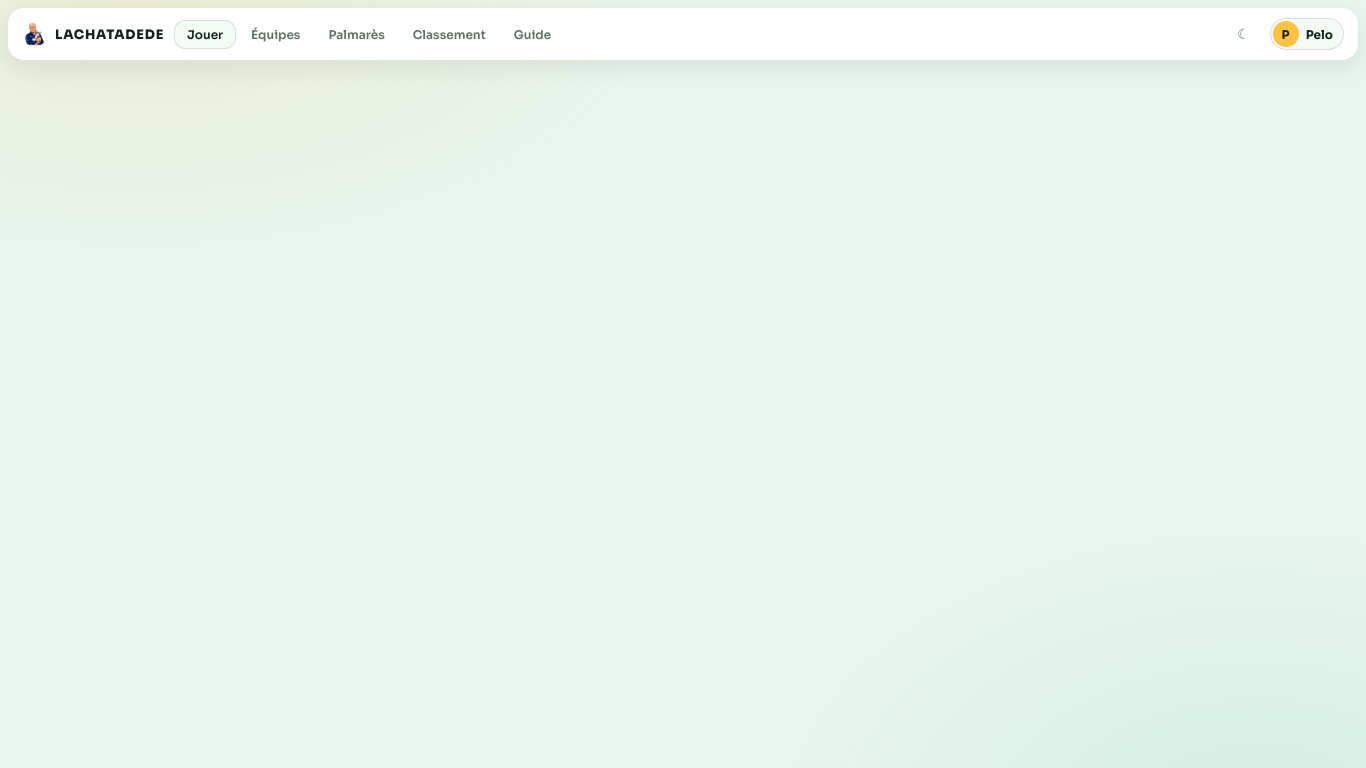
Scenario: Appbar Component › should close the menu on Escape
Click the button with test id "user-menu" at (1307, 34), box [1270, 18, 1344, 50]
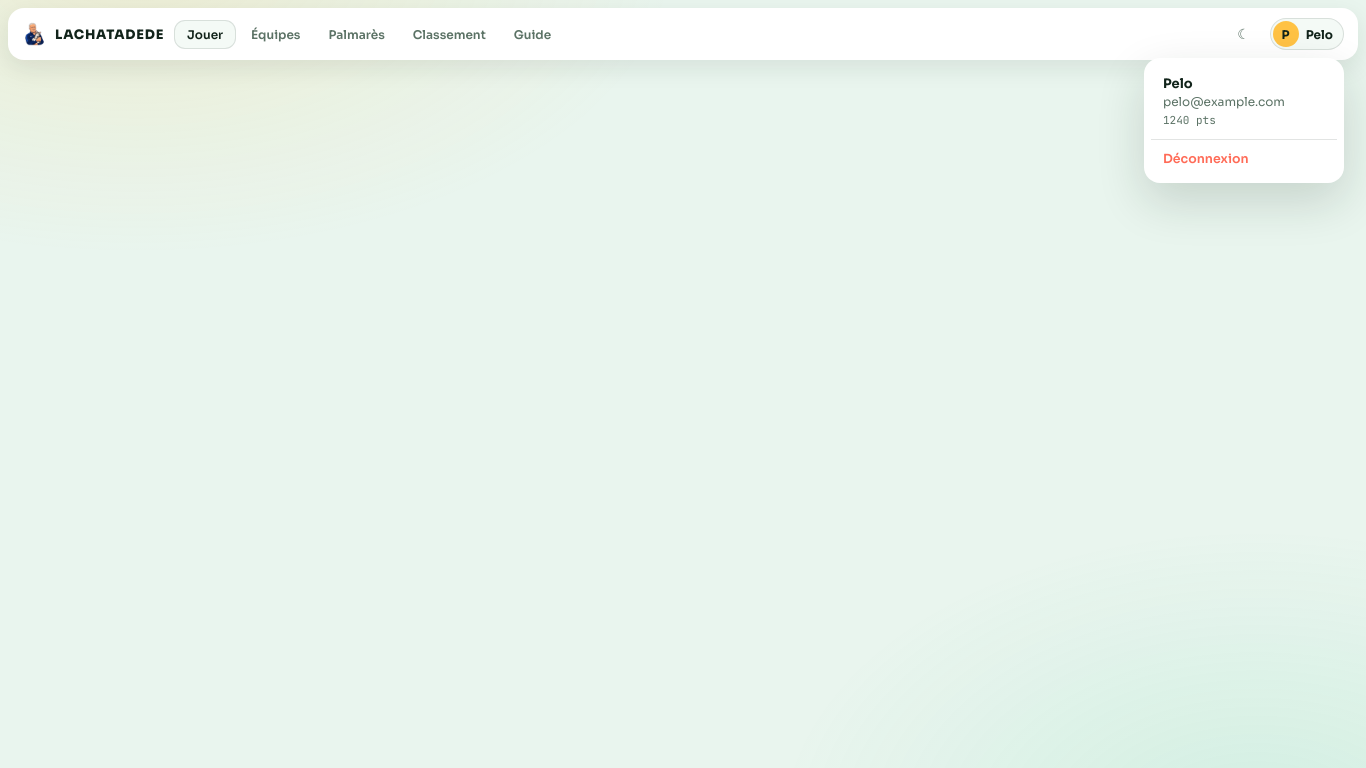
Check: the menu item with test id "logout-button" is shown, box [1151, 142, 1337, 176]
Press Escape
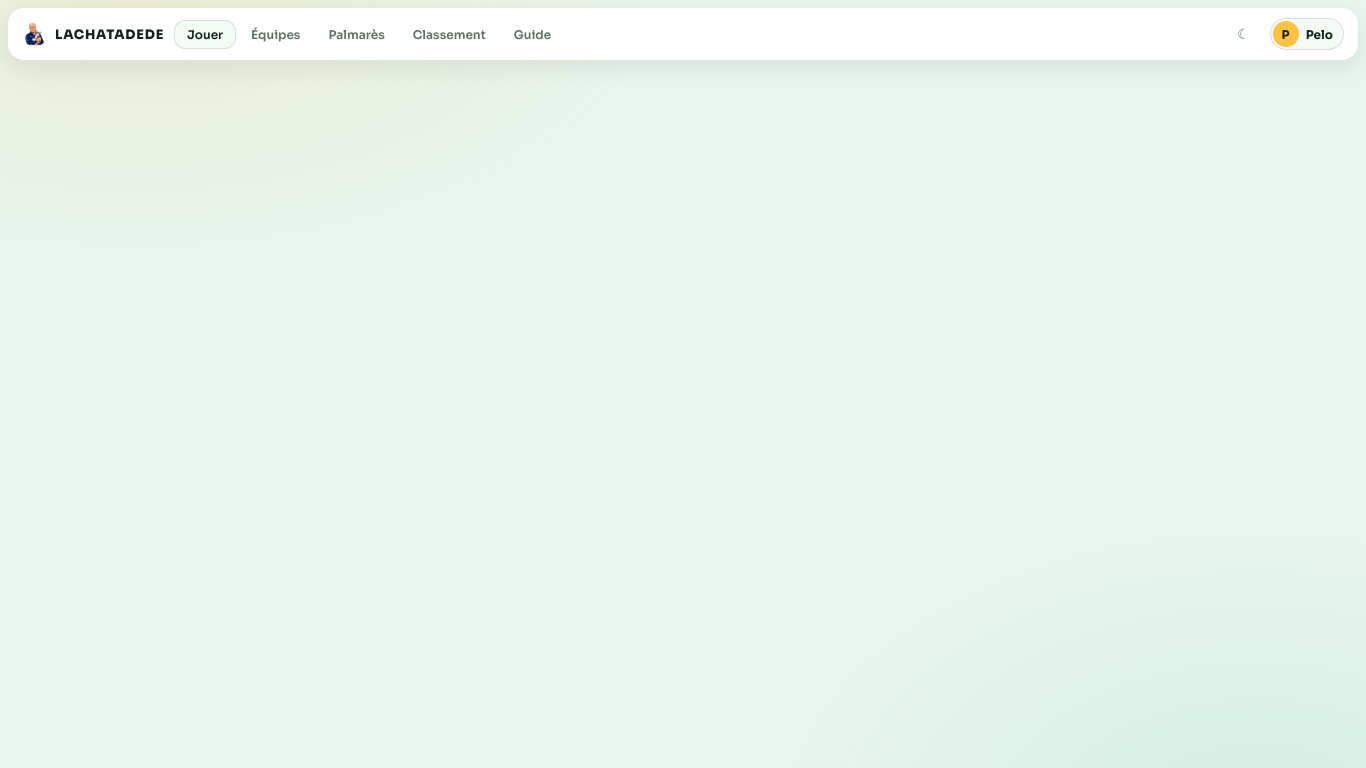
Check: the menu item with test id "logout-button" is gone
